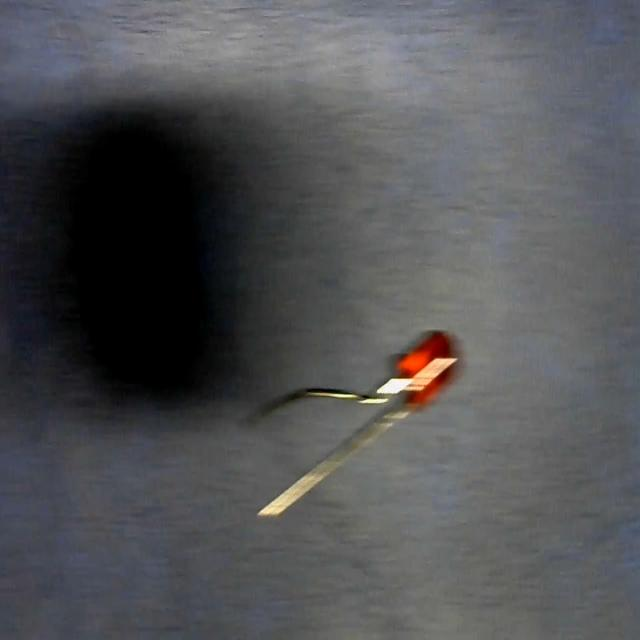LED: (249, 336, 457, 521)
